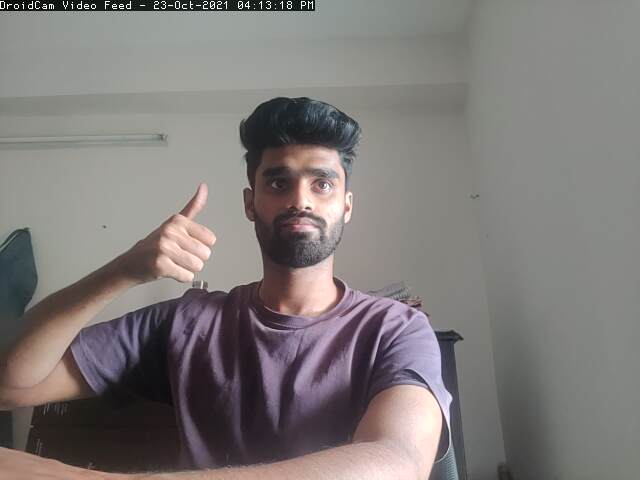ThumbsUp: (126, 178, 222, 285)
